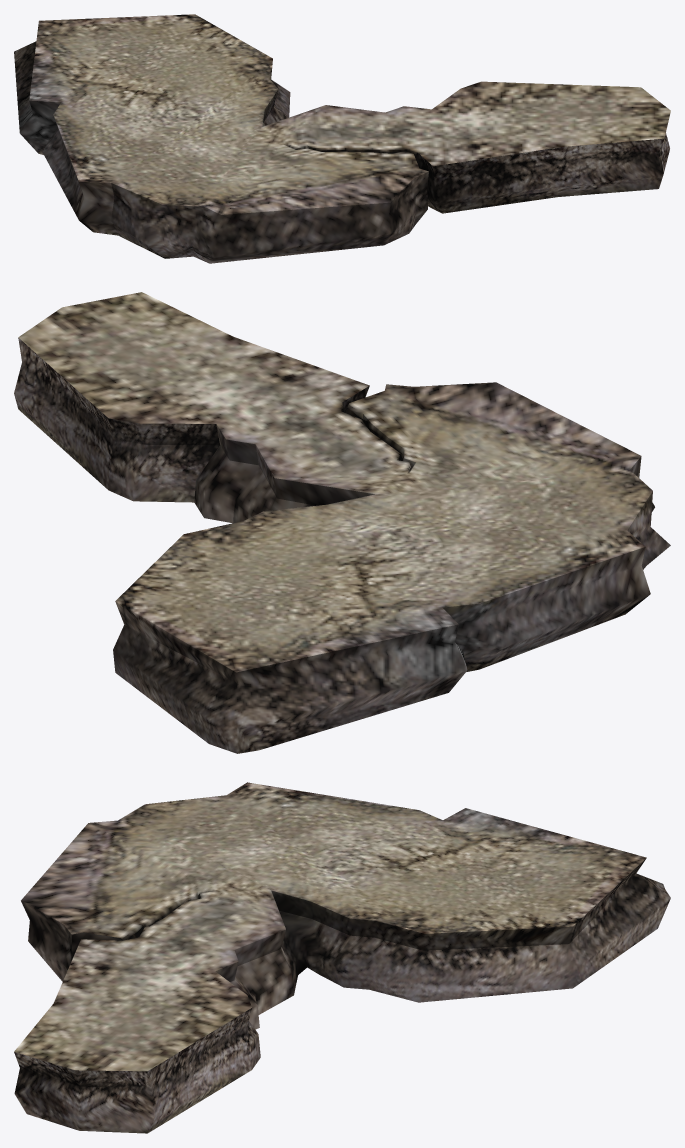
File: StreetRubble_3.fbx
3 views of the same model, one above another, from view 1: azimuth 30°, elevation 25°; view 2: azimuth 150°, elevation 25°; view 3: azimuth 270°, elevation 25° (orthographic). The views are drawn at different scales.
Parts seen in each view (by area): view 1: StreetRubble_3; view 2: StreetRubble_3; view 3: StreetRubble_3.
Part boxes in pixels (box(x1,y1,x2,y2)): StreetRubble_3: box(14, 14, 670, 263); StreetRubble_3: box(14, 292, 670, 753); StreetRubble_3: box(14, 782, 670, 1133).
Bounding box in the file's own units: 301 × 30.14 × 288.
